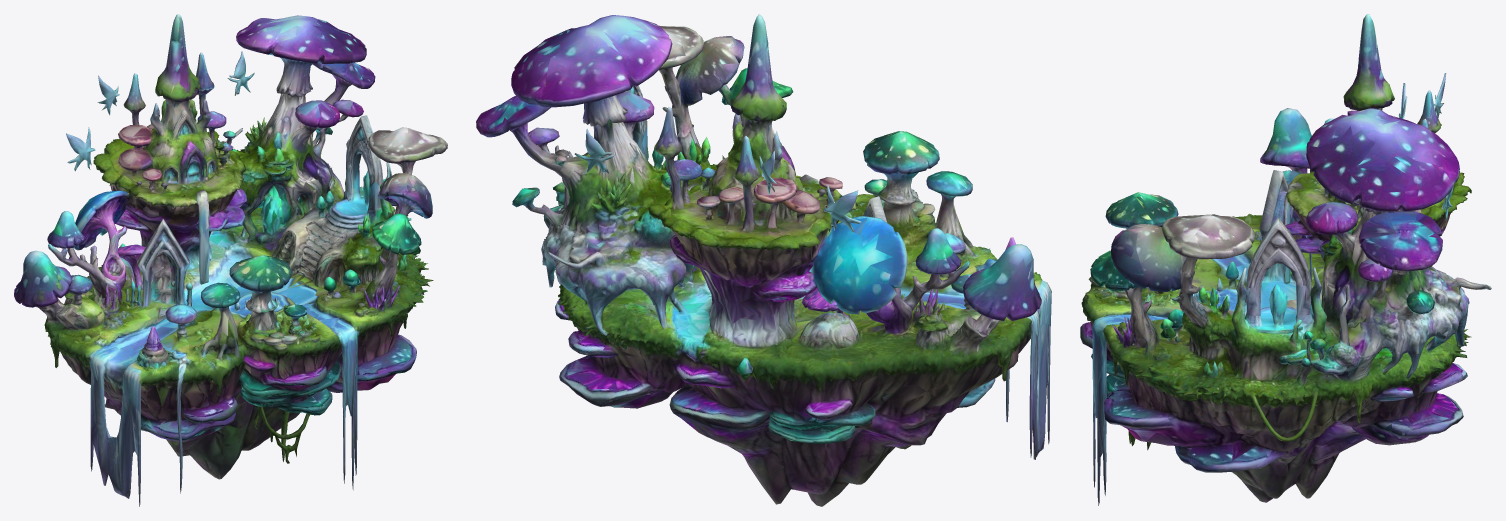
File: Floating_Isle_of_Biol.glb
The picture shows the model from 3 angles, left to right: view 1: azimuth 30°, elevation 25°; view 2: azimuth 150°, elevation 25°; view 3: azimuth 270°, elevation 25°; orthographic projection. The views are drawn at different scales.
Visible parts, largest first — view 1: Floating_Isle_of_Biol; view 2: Floating_Isle_of_Biol; view 3: Floating_Isle_of_Biol.
Boxes of the visible parts, x1=… form: Floating_Isle_of_Biol: x1=14, y1=14, x2=447, y2=506; Floating_Isle_of_Biol: x1=476, y1=14, x2=1051, y2=506; Floating_Isle_of_Biol: x1=1080, y1=14, x2=1491, y2=505.
Bounding box in the file's own units: 1.86 × 1.9 × 1.44.
Materials: 1 (1 with a texture image).
